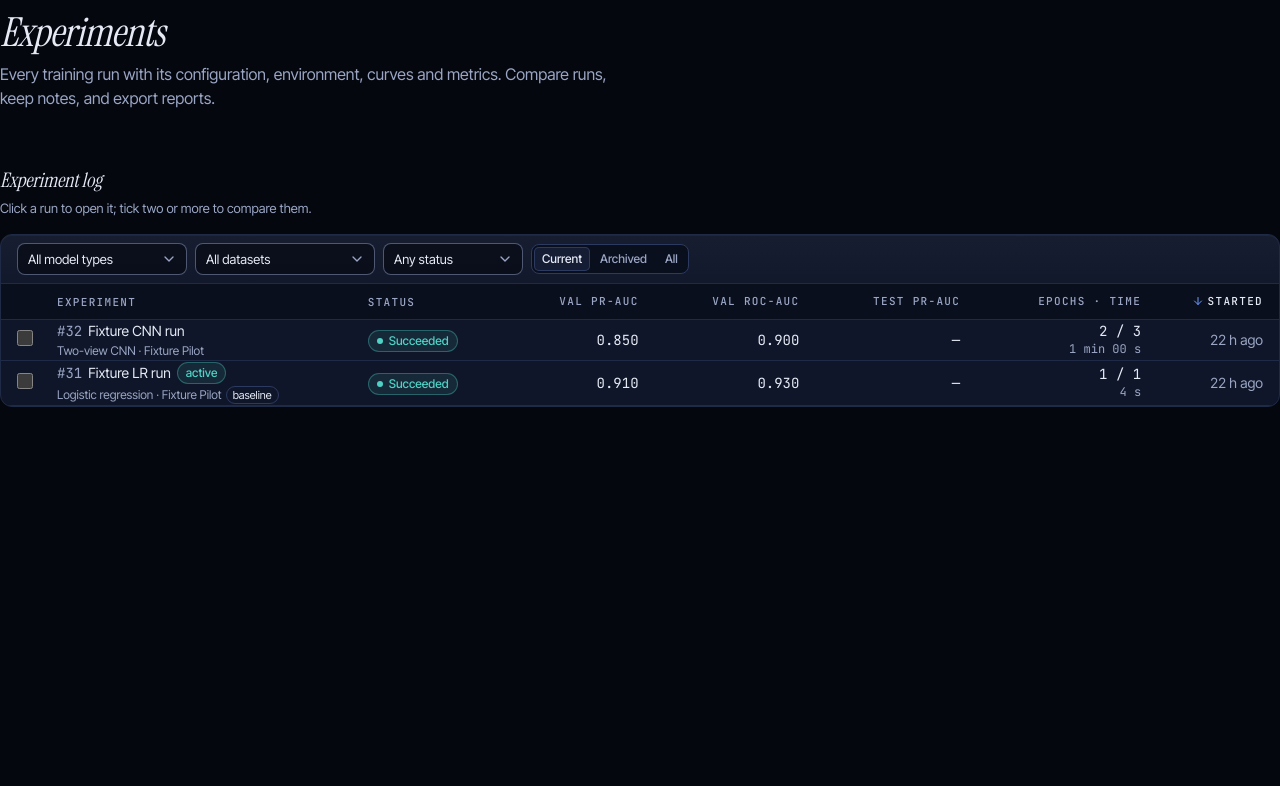
Experiments › compares runs: configuration differences and the comparison report
Click the checkbox named "Add experiment 31 to the comparison".
click(25, 380)  # box left=17, top=372, right=33, bottom=388
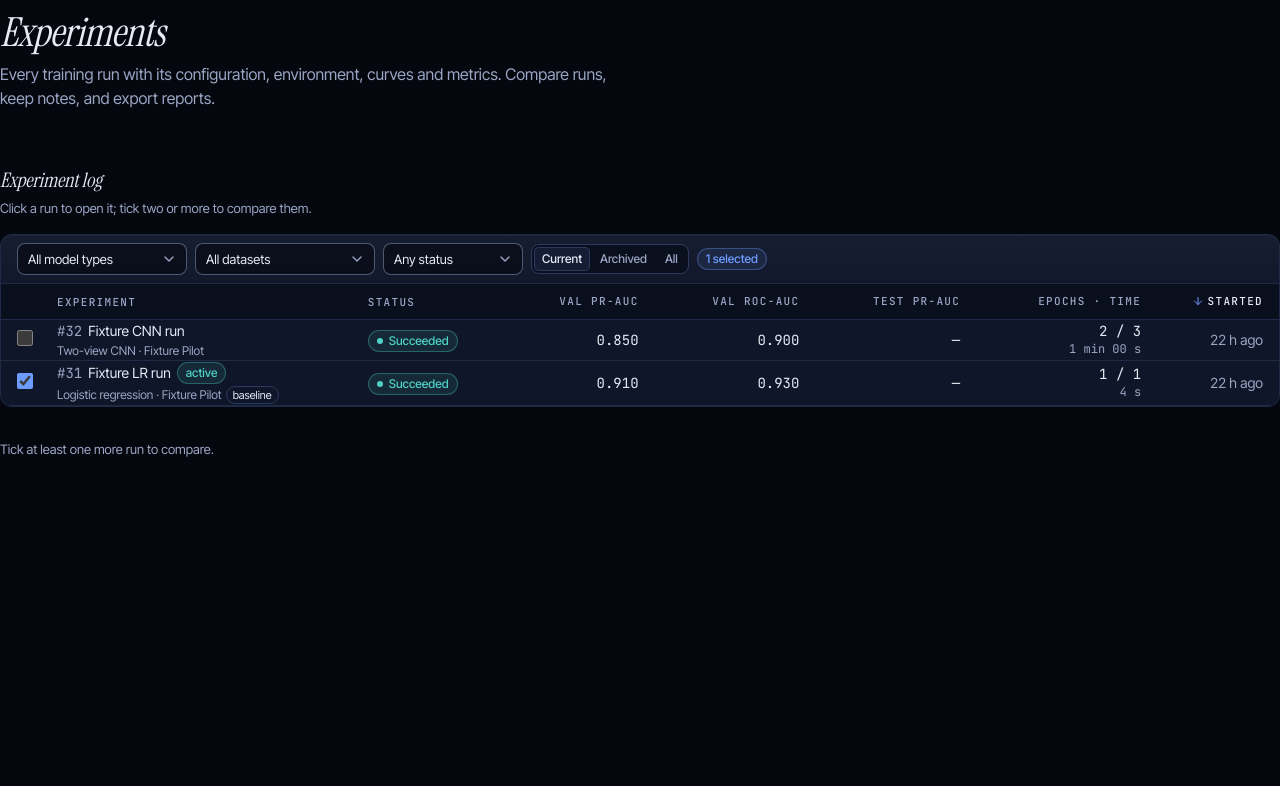
Click the checkbox named "Add experiment 32 to the comparison".
click(25, 338)  # box left=17, top=330, right=33, bottom=346
(page scrolled)
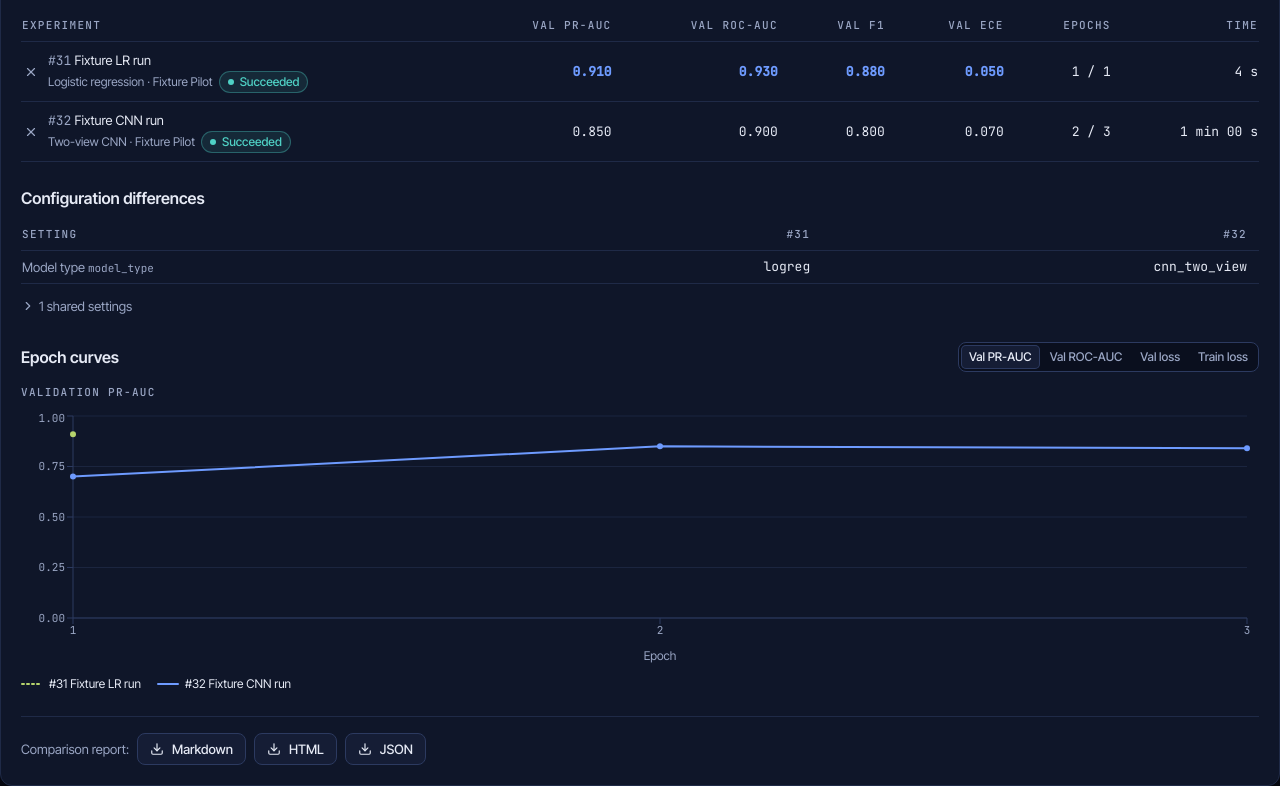
Expected: the table named "Configuration differences" shows "logreg", left=763, top=258, right=810, bottom=275
Expected: the table named "Configuration differences" shows "cnn_two_view", left=1153, top=258, right=1247, bottom=275
Expected: the element named "Download the comparison report" is shown, left=21, top=733, right=426, bottom=765
